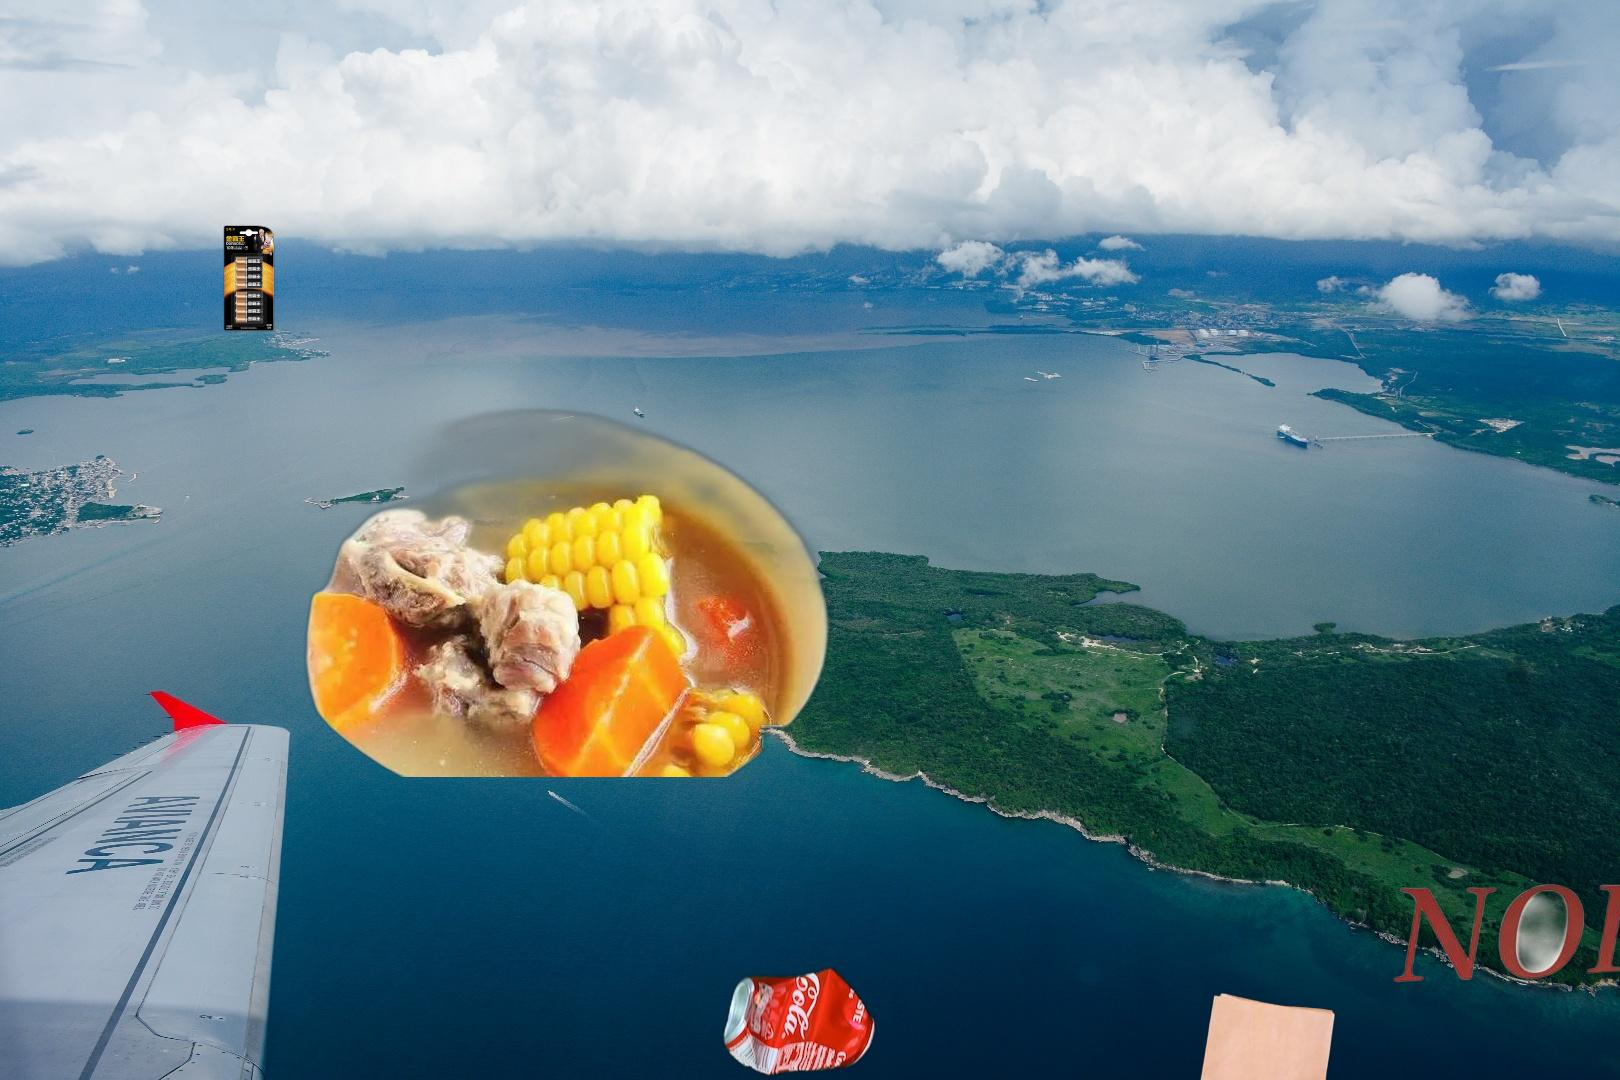battery: (221, 223, 277, 334)
biological: (262, 377, 837, 777)
metal-cans: (466, 962, 880, 1080)
paper-bag: (1104, 991, 1338, 1080)
trashbox-cardboard: (1380, 639, 1620, 1023)
